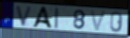0: (110, 11, 124, 34)
8: (73, 9, 87, 30)
A: (31, 7, 54, 30)
I: (54, 7, 60, 30)
V: (89, 9, 108, 33), (15, 5, 34, 27)
